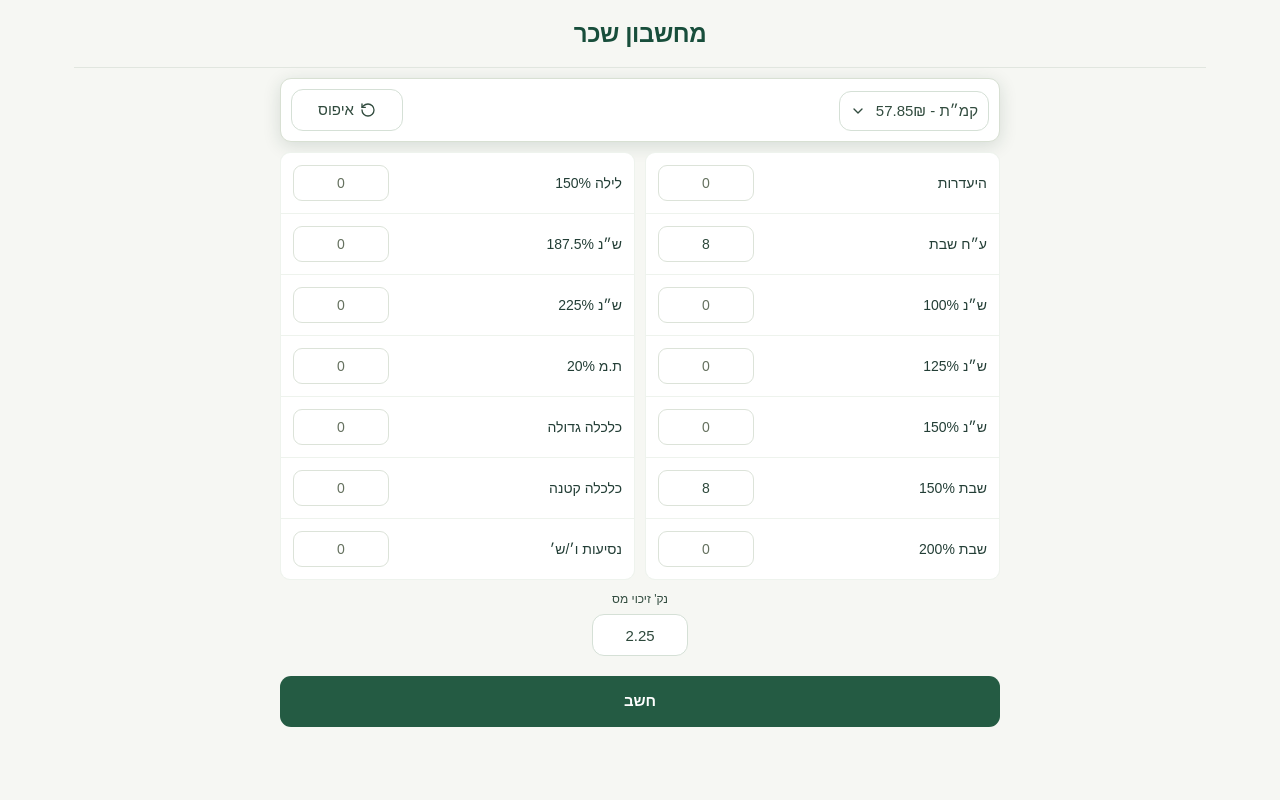
Scenario: ignores saved 50% premiums and omits them from the breakdown
The width and height of the screenshot is (1280, 800).
Step 1. Click the button "חשב" → point(640, 701), box [280,676,1000,726]
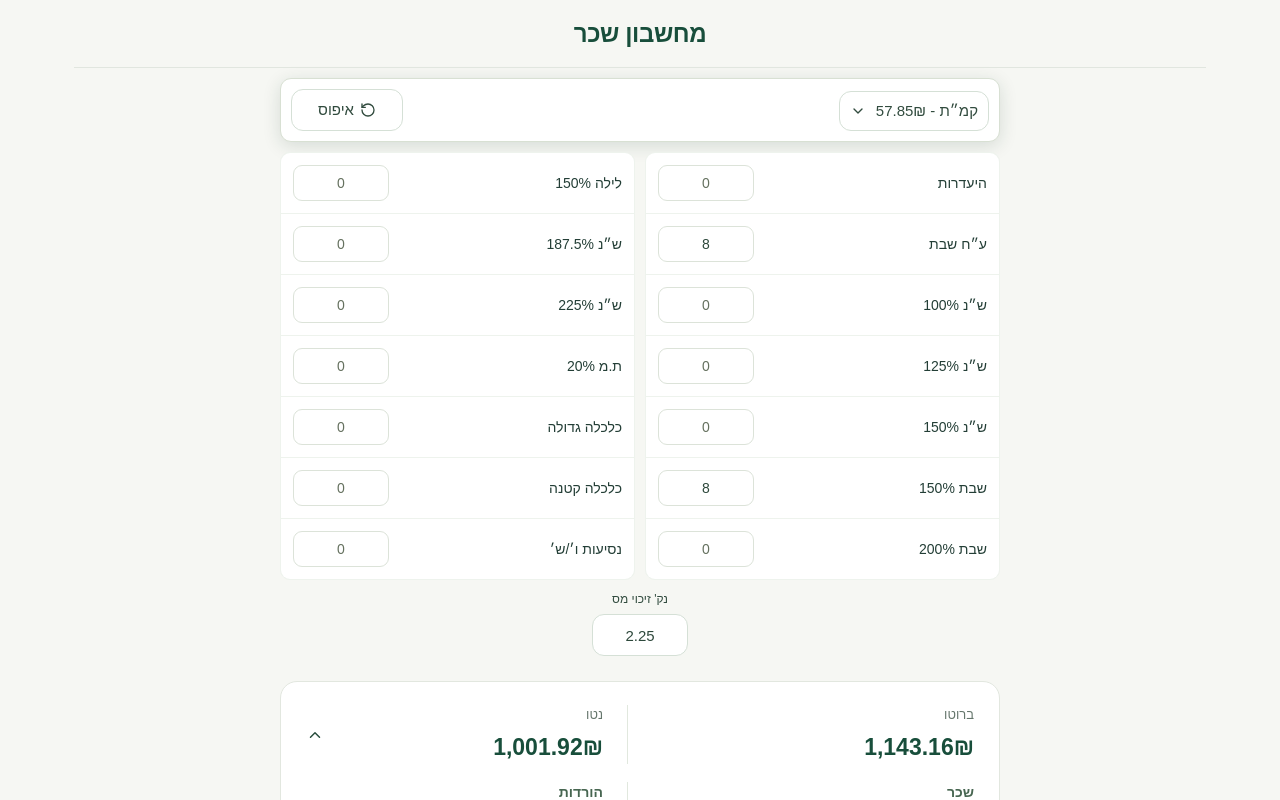
Result: the text with test id "gross" shows "1,143.16" at [858,734,974,760]
